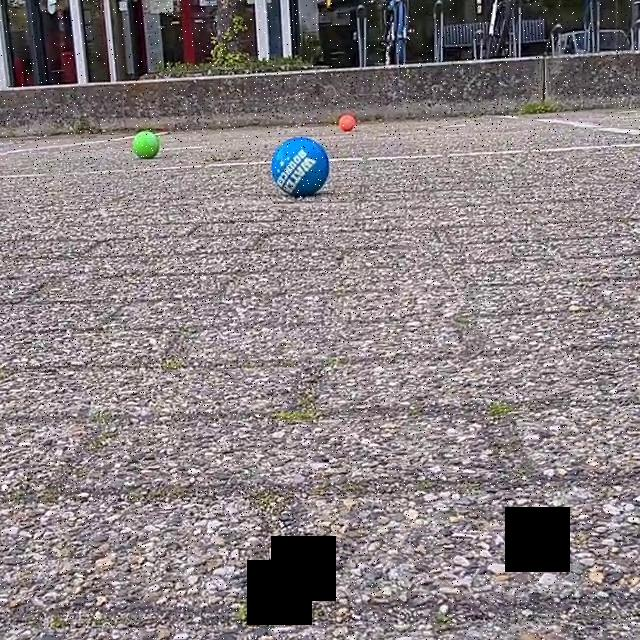ball: (128, 128, 164, 159), (332, 108, 358, 134)
